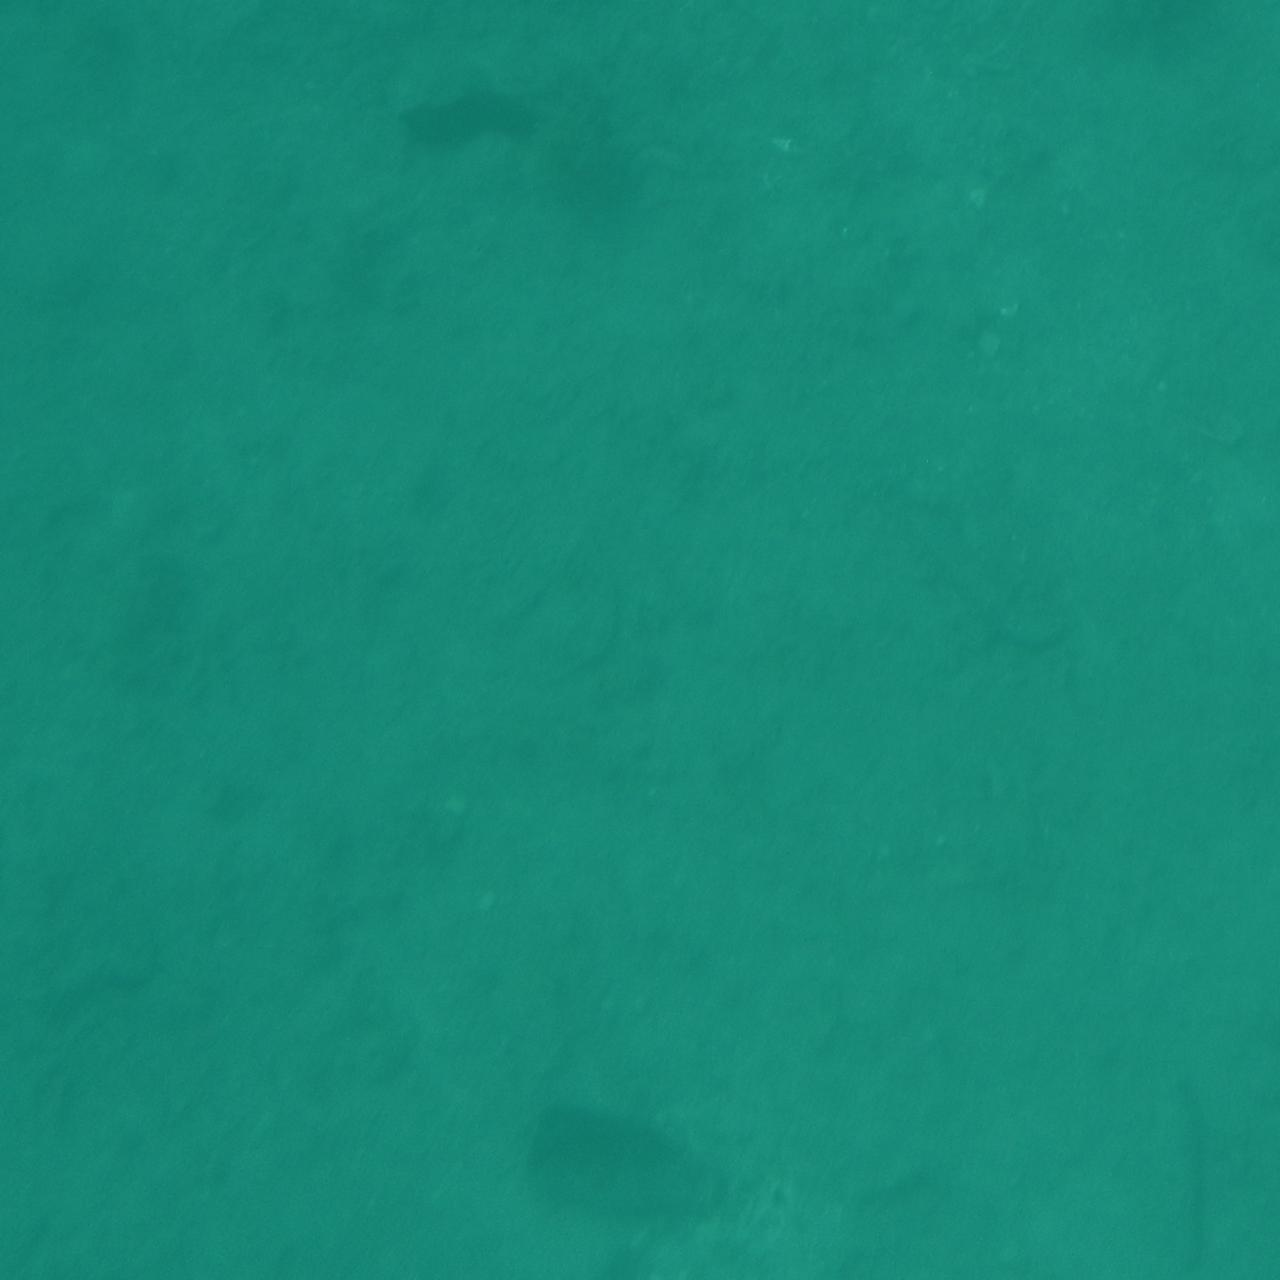Holothuria tubulosa: (522, 1073, 758, 1236)
